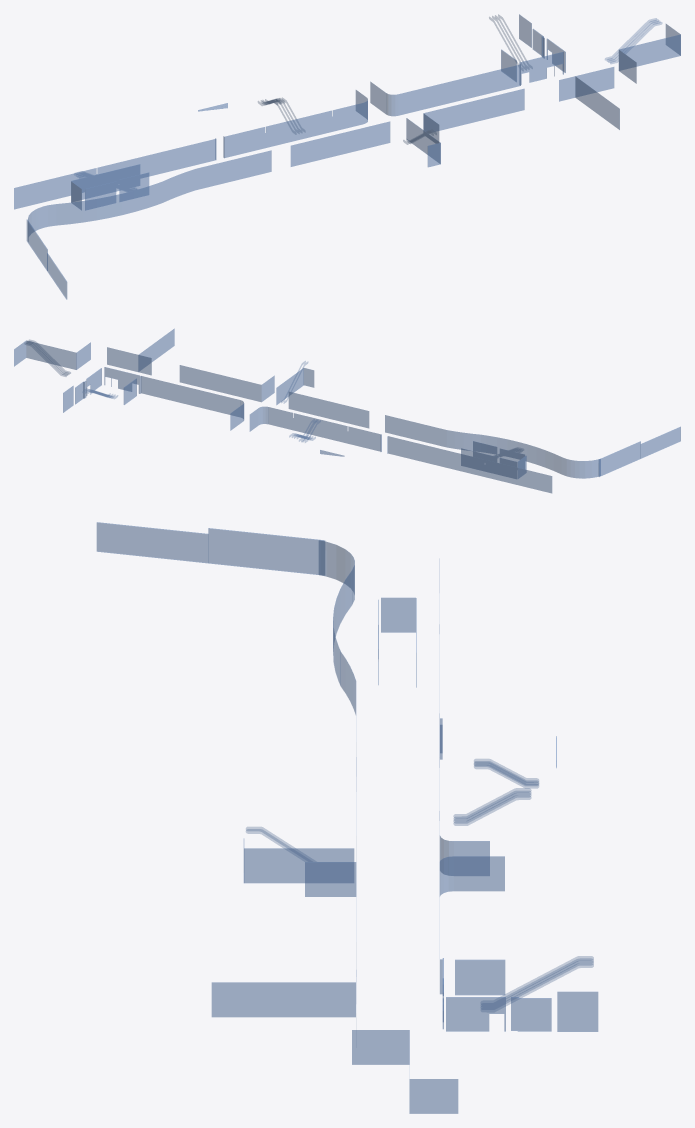
The model's file is M_K_B1A_boli.obj.
3 views of the same model, one above another, from view 1: azimuth 30°, elevation 25°; view 2: azimuth 150°, elevation 25°; view 3: azimuth 270°, elevation 25° (orthographic). The views are drawn at different scales.
Visible parts, largest first — view 1: M_K_B1A_boli; view 2: M_K_B1A_boli; view 3: M_K_B1A_boli.
Part boxes in pixels (left/top/right/bottom): M_K_B1A_boli: left=14, top=14, right=680, bottom=299; M_K_B1A_boli: left=14, top=328, right=680, bottom=493; M_K_B1A_boli: left=96, top=522, right=598, bottom=1113.
Bounding box in the file's own units: 3511 × 151 × 1322.
